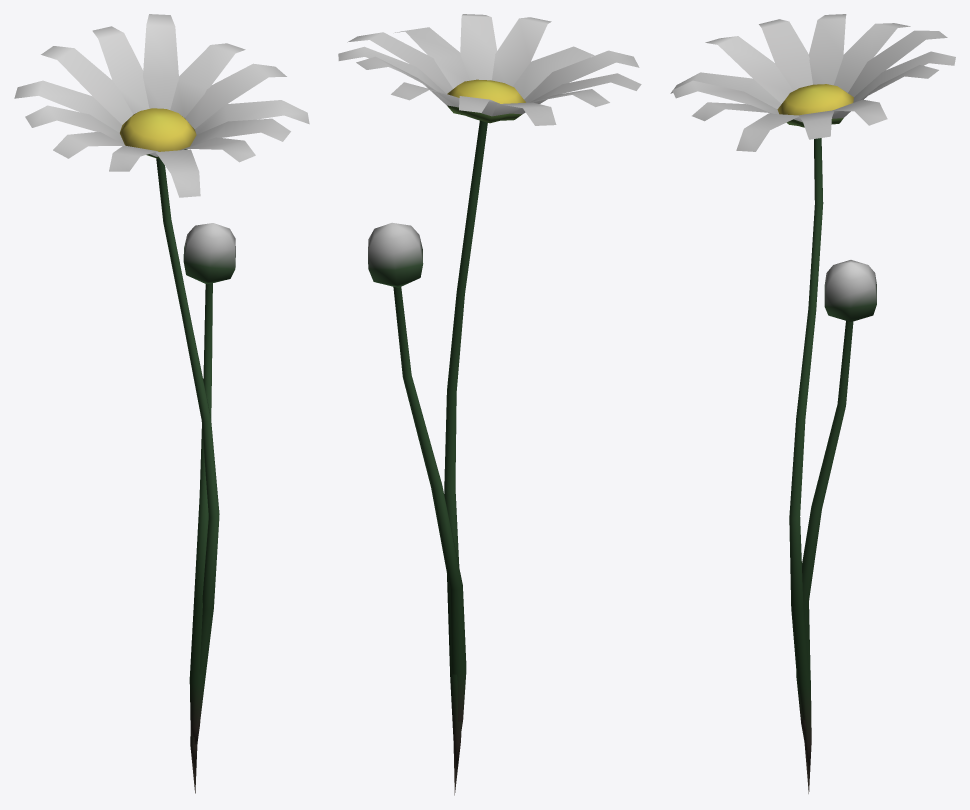
File: plants-flowers-daisy_v8.glb
The picture shows the model from 3 angles, left to right: view 1: azimuth 30°, elevation 25°; view 2: azimuth 150°, elevation 25°; view 3: azimuth 270°, elevation 25°; orthographic projection. The views are drawn at different scales.
Visible parts, largest first — view 1: Daisy_v8; view 2: Daisy_v8; view 3: Daisy_v8.
Part boxes in pixels (<box>): Daisy_v8: <box>14,14,309,793</box>; Daisy_v8: <box>338,14,641,795</box>; Daisy_v8: <box>670,14,955,793</box>.
Bounding box in the file's own units: 0.1787 × 0.5 × 0.1763.
